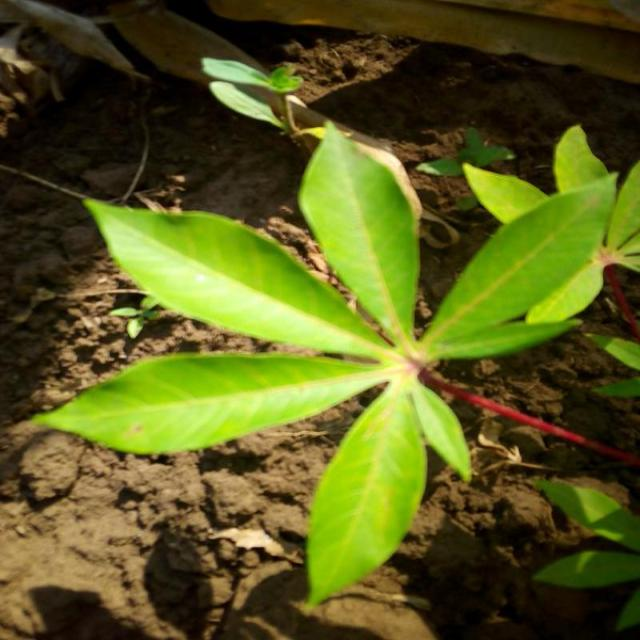cassava leaf: (28, 115, 624, 607), (83, 194, 394, 361), (29, 349, 386, 455), (420, 170, 617, 362), (304, 381, 430, 607), (298, 120, 423, 344)
